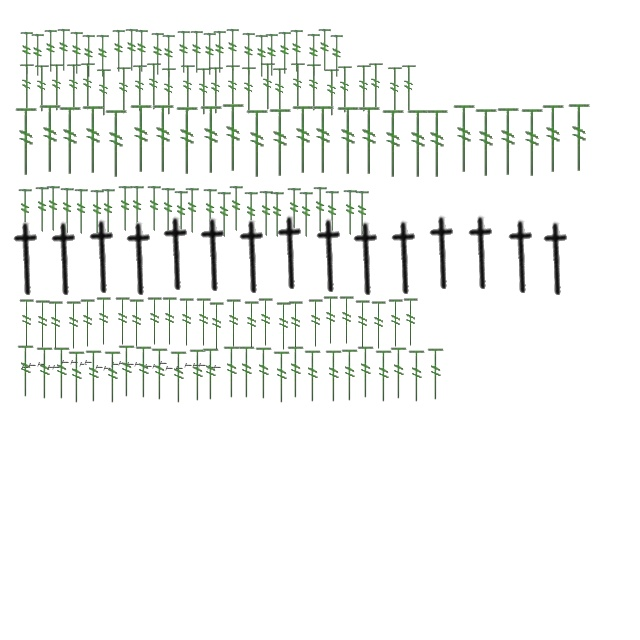enseble_chain: (5, 221, 49, 297), (43, 221, 87, 297), (81, 219, 125, 295), (118, 221, 162, 297), (155, 216, 199, 292), (192, 217, 236, 293), (231, 219, 275, 295), (269, 215, 313, 291), (308, 218, 352, 294), (345, 221, 389, 297), (383, 220, 427, 296), (421, 215, 465, 291), (460, 215, 504, 291), (500, 219, 544, 295), (535, 221, 579, 297), (37, 362, 45, 368), (61, 360, 69, 366), (70, 360, 78, 366), (79, 362, 87, 368), (84, 360, 92, 366), (103, 366, 111, 372), (111, 362, 119, 368), (126, 362, 134, 368), (134, 362, 142, 368), (144, 364, 152, 370), (152, 364, 160, 370), (165, 366, 173, 372), (175, 366, 183, 372), (21, 366, 29, 370), (28, 364, 36, 368), (47, 366, 55, 370), (52, 366, 60, 370), (95, 366, 103, 370), (118, 362, 126, 366), (159, 362, 167, 366), (184, 364, 192, 368), (192, 364, 200, 368), (198, 364, 206, 368), (207, 366, 215, 370), (213, 366, 221, 370)
fan: (80, 104, 108, 176), (198, 104, 226, 176), (220, 102, 248, 174), (244, 108, 272, 180), (290, 104, 318, 176), (310, 104, 338, 176), (380, 108, 408, 180), (424, 108, 452, 180), (566, 102, 594, 174), (128, 104, 156, 174), (150, 104, 178, 174), (174, 106, 202, 176), (356, 106, 384, 176), (540, 104, 568, 174), (14, 106, 40, 178), (104, 108, 130, 180), (406, 108, 432, 180), (496, 106, 522, 178), (38, 104, 64, 174), (58, 106, 84, 176), (268, 108, 294, 178), (336, 106, 362, 176), (452, 104, 478, 174), (474, 108, 500, 178), (520, 108, 546, 178), (16, 344, 36, 398), (35, 346, 55, 400), (52, 346, 72, 400), (67, 350, 87, 404), (84, 349, 104, 403), (103, 350, 123, 404), (117, 344, 137, 398), (134, 345, 154, 399), (150, 347, 170, 401), (169, 350, 189, 404), (188, 348, 208, 402), (201, 347, 221, 401), (222, 345, 242, 399), (237, 345, 257, 399), (254, 346, 274, 400), (272, 350, 292, 404), (286, 345, 306, 399), (303, 349, 323, 403), (324, 349, 344, 403), (340, 348, 360, 402), (356, 345, 376, 399), (374, 349, 394, 403), (389, 346, 409, 400), (407, 349, 427, 403), (426, 347, 446, 401), (18, 62, 36, 114), (48, 62, 66, 114), (65, 62, 83, 114), (160, 66, 178, 118), (195, 66, 213, 118), (271, 66, 289, 118), (305, 62, 323, 114), (336, 64, 354, 116), (33, 64, 51, 114), (79, 62, 97, 112), (95, 68, 113, 118), (115, 66, 133, 116), (131, 64, 149, 114), (145, 62, 163, 112), (179, 64, 197, 114), (207, 66, 225, 116), (224, 64, 242, 114), (240, 66, 258, 116), (259, 62, 277, 112), (289, 62, 307, 112), (323, 68, 341, 118), (355, 64, 373, 114), (367, 62, 385, 112), (386, 66, 404, 116), (400, 64, 418, 114), (18, 298, 36, 348), (34, 299, 52, 349), (47, 300, 65, 350), (65, 300, 83, 350), (79, 298, 97, 348), (95, 296, 113, 346), (114, 296, 132, 346), (128, 298, 146, 348), (146, 296, 164, 346), (161, 296, 179, 346), (178, 297, 196, 347), (195, 297, 213, 347), (208, 301, 226, 351), (225, 298, 243, 348), (243, 300, 261, 350), (257, 297, 275, 347), (275, 301, 293, 351), (287, 300, 305, 350), (307, 298, 325, 348), (322, 295, 340, 345), (338, 295, 356, 345), (354, 299, 372, 349), (370, 300, 388, 350), (387, 298, 405, 348), (402, 297, 420, 347), (17, 188, 33, 236), (34, 186, 50, 234), (73, 188, 89, 236), (100, 188, 116, 236), (173, 190, 189, 238), (202, 188, 218, 236), (258, 190, 274, 238), (312, 186, 328, 234), (324, 190, 340, 238), (354, 190, 370, 238), (45, 186, 61, 232), (59, 188, 75, 234), (89, 190, 105, 236), (117, 186, 133, 232), (129, 186, 145, 232), (146, 186, 162, 232), (160, 188, 176, 234), (184, 188, 200, 234), (216, 192, 232, 238), (228, 186, 244, 232), (243, 192, 259, 238), (269, 192, 285, 238), (286, 188, 302, 234), (298, 192, 314, 238), (342, 190, 358, 236), (30, 33, 46, 77), (56, 28, 72, 72), (124, 28, 140, 72), (134, 29, 150, 73), (150, 32, 166, 76), (176, 30, 192, 74), (202, 32, 218, 76), (212, 30, 228, 74), (254, 34, 270, 78), (264, 33, 280, 77), (306, 33, 322, 77), (20, 31, 34, 75), (44, 29, 58, 73), (70, 31, 84, 75), (82, 34, 96, 78), (96, 34, 110, 78), (112, 29, 126, 73), (162, 34, 176, 78), (190, 30, 204, 74), (226, 28, 240, 72), (242, 32, 256, 76), (278, 31, 292, 75), (290, 29, 304, 73), (318, 28, 332, 72), (330, 34, 344, 78)
